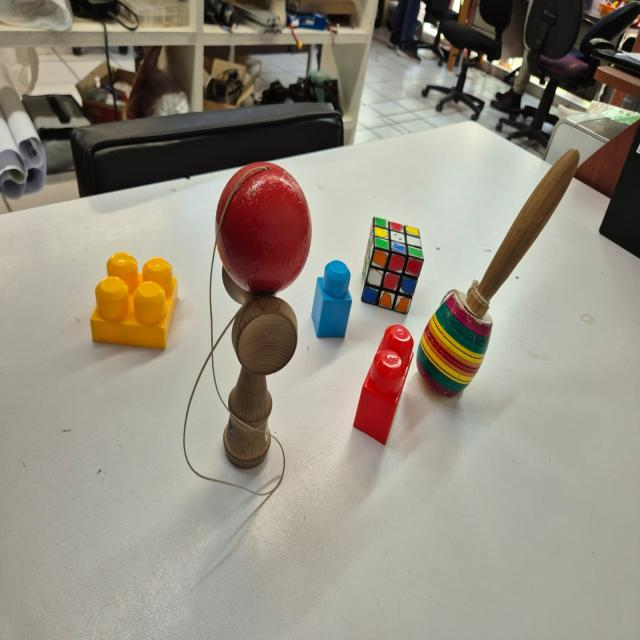balero: (418, 152, 578, 396)
balero ball: (181, 163, 311, 500)
lego 2: (352, 326, 413, 446)
lego 4: (89, 251, 177, 349)
lego_1: (311, 258, 354, 342)
rubick: (359, 216, 426, 314)
